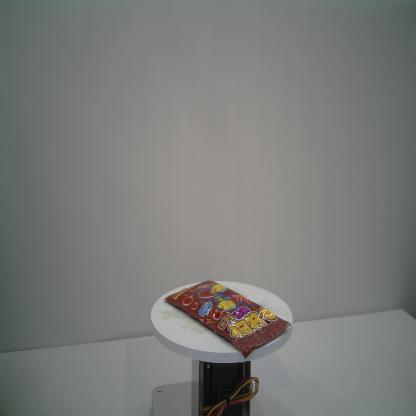Candy: (164, 279, 292, 359)
